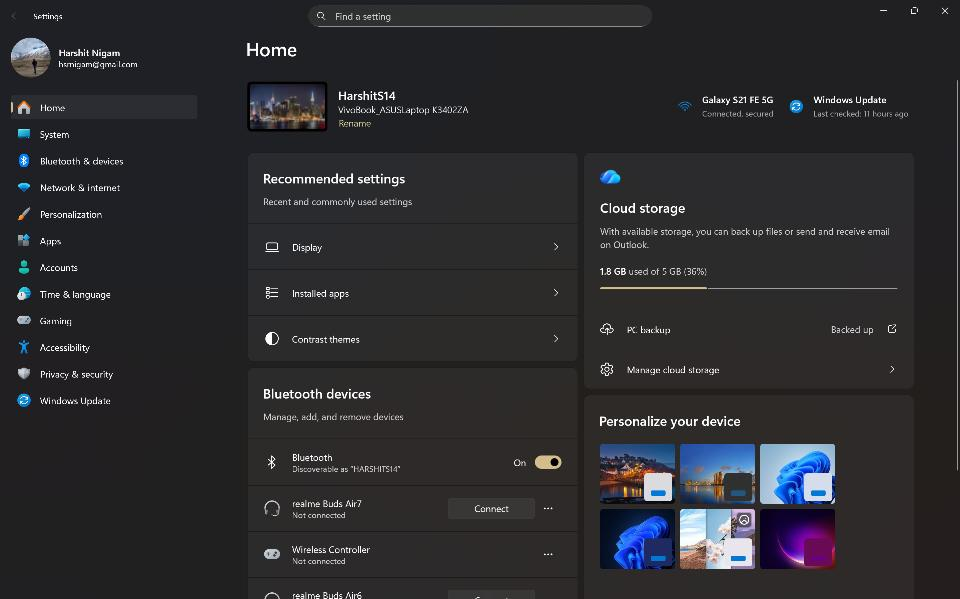close_button: (937, 3, 955, 20)
maximize_button: (905, 4, 927, 17)
minimize_button: (875, 5, 894, 18)
